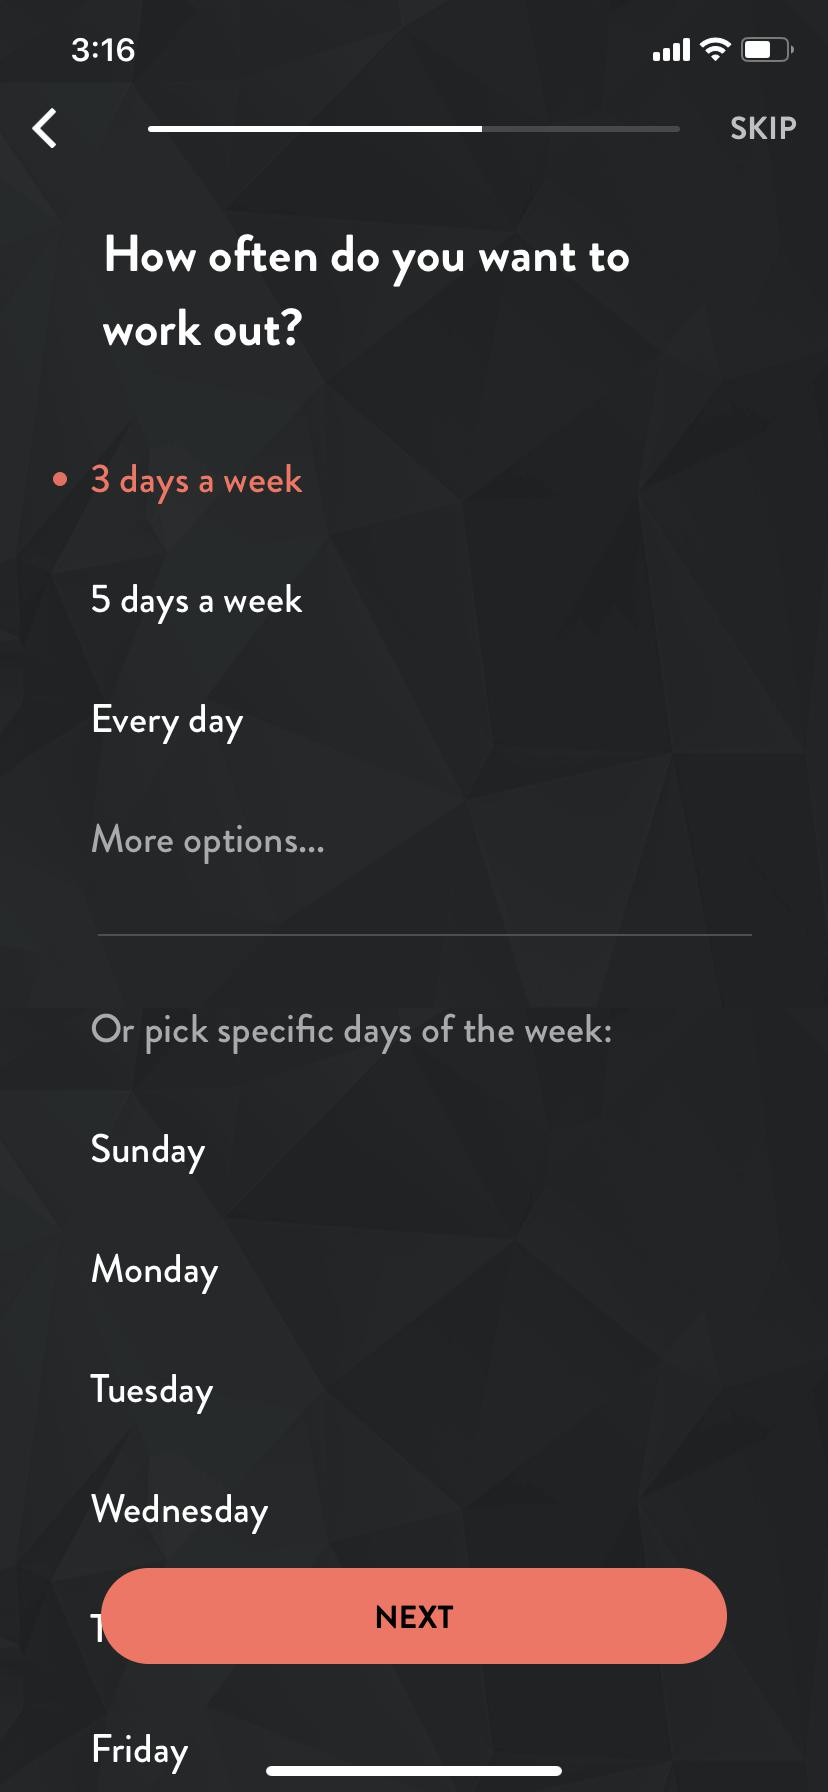Buttons: (99, 1565, 732, 1669), (727, 102, 804, 153)
Progress indicators: (133, 107, 688, 147)
